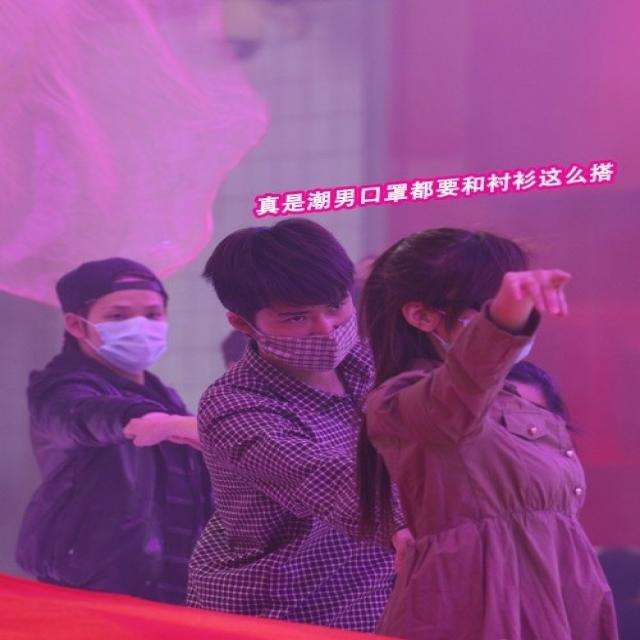mask: (254, 275, 350, 379), (85, 280, 166, 368)
